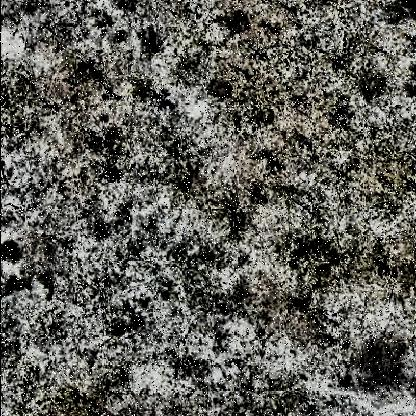tree-top: (128, 79, 158, 107)
